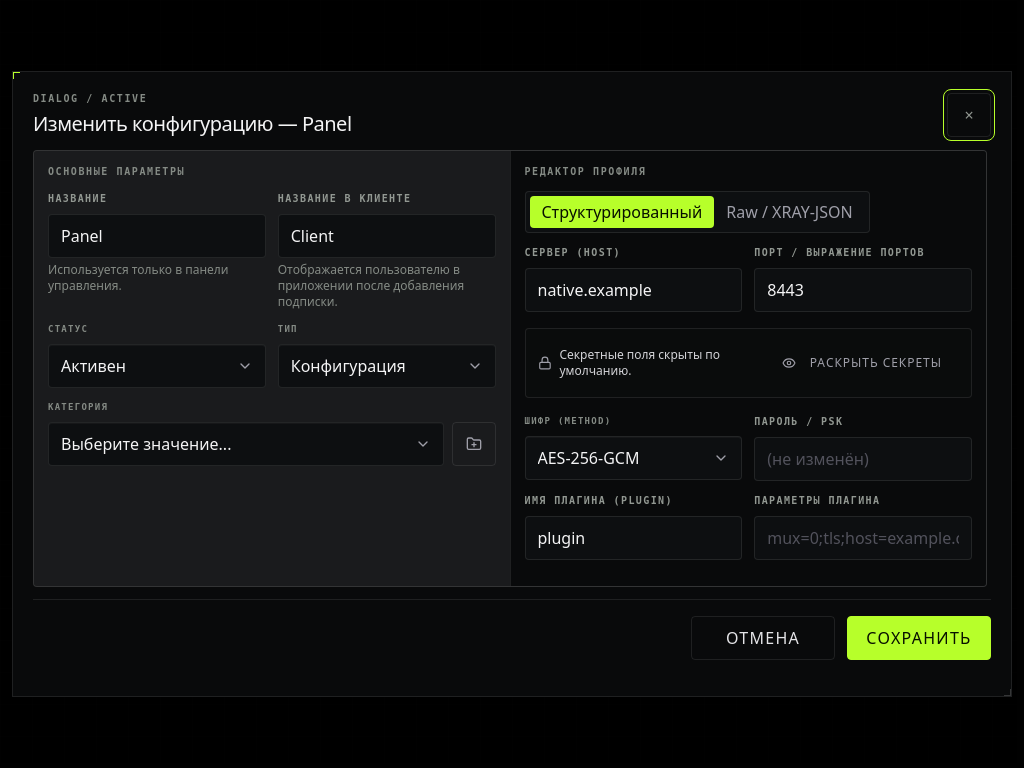
Test: editor native command wire contracts before extraction › withholds shadowsocks raw update before reveal
This screenshot has width=1024, height=768.
Expected: the field showing "native.example" is shown, left=524, top=268, right=742, bottom=312
Click the button "Raw / XRAY-JSON".
click(790, 212)  # box left=714, top=196, right=865, bottom=228
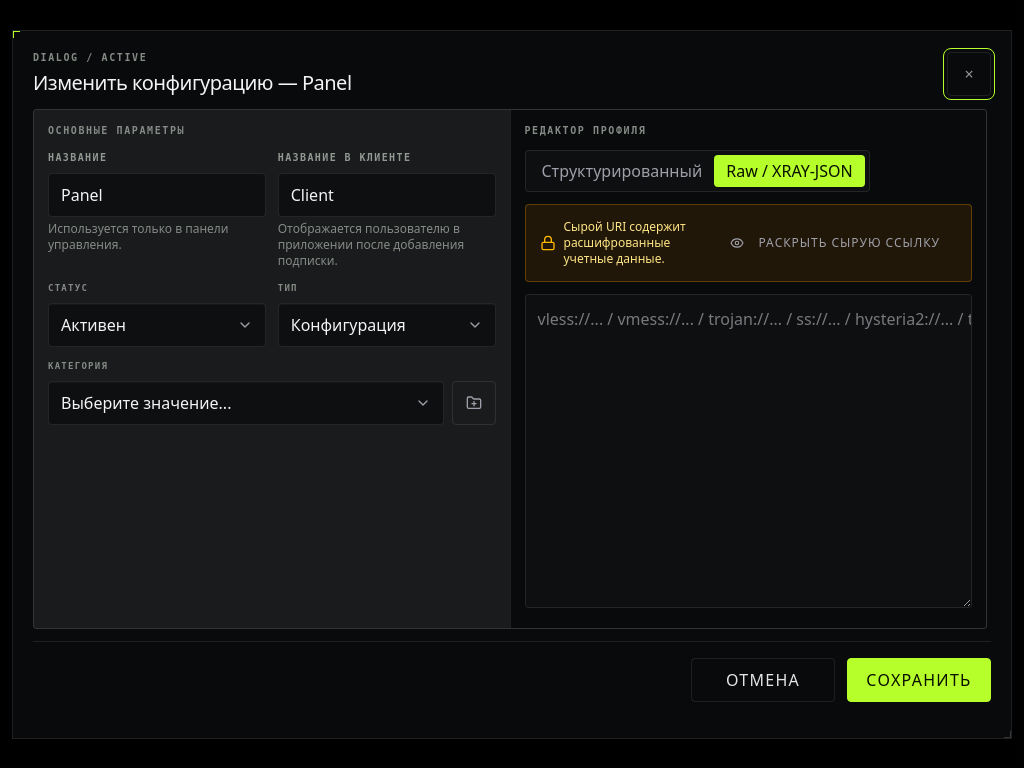
Click the button "Сохранить".
click(919, 680)  # box left=847, top=658, right=991, bottom=702
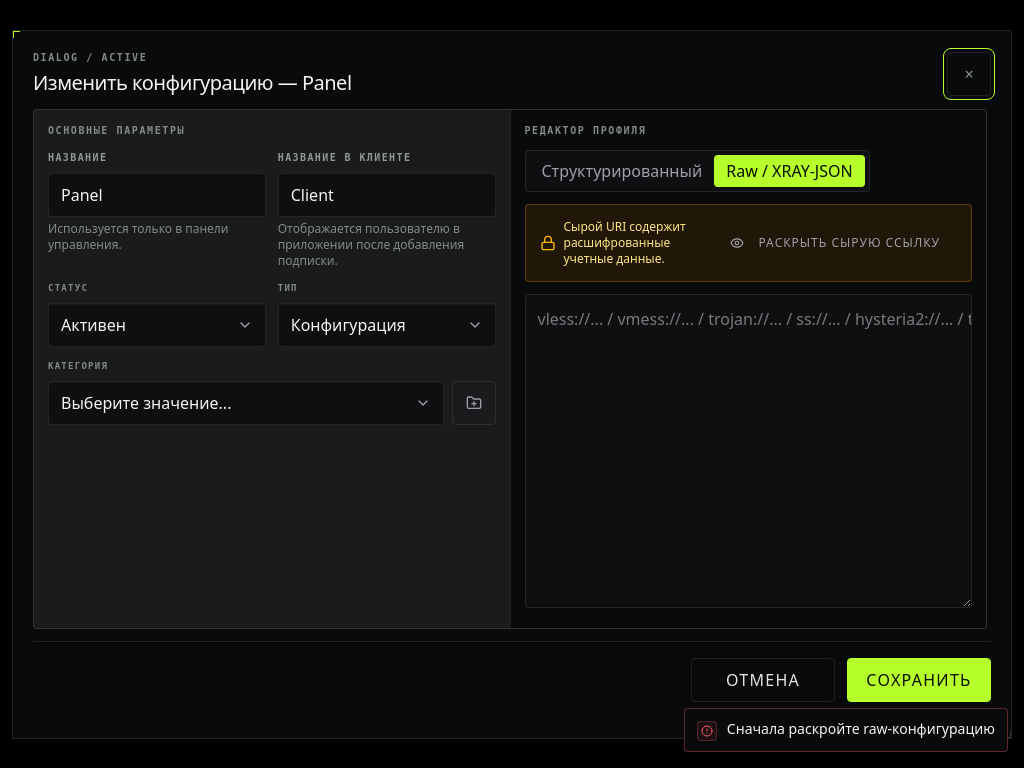
Expected: the text "Сначала раскройте raw-конфигурацию" is shown, left=727, top=719, right=995, bottom=739
